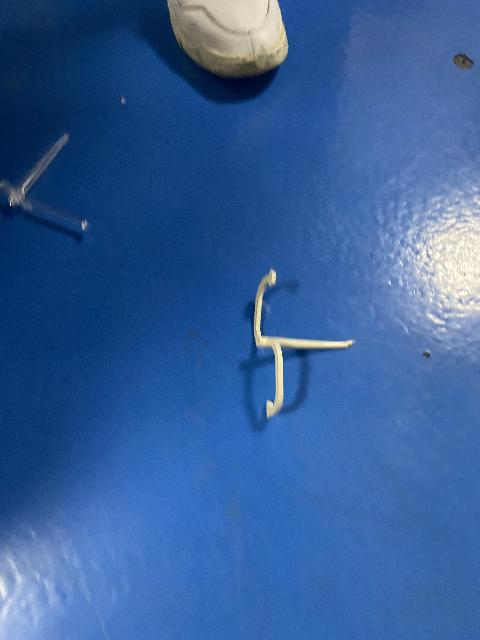Plastik: (240, 271, 360, 419), (0, 129, 92, 232)
